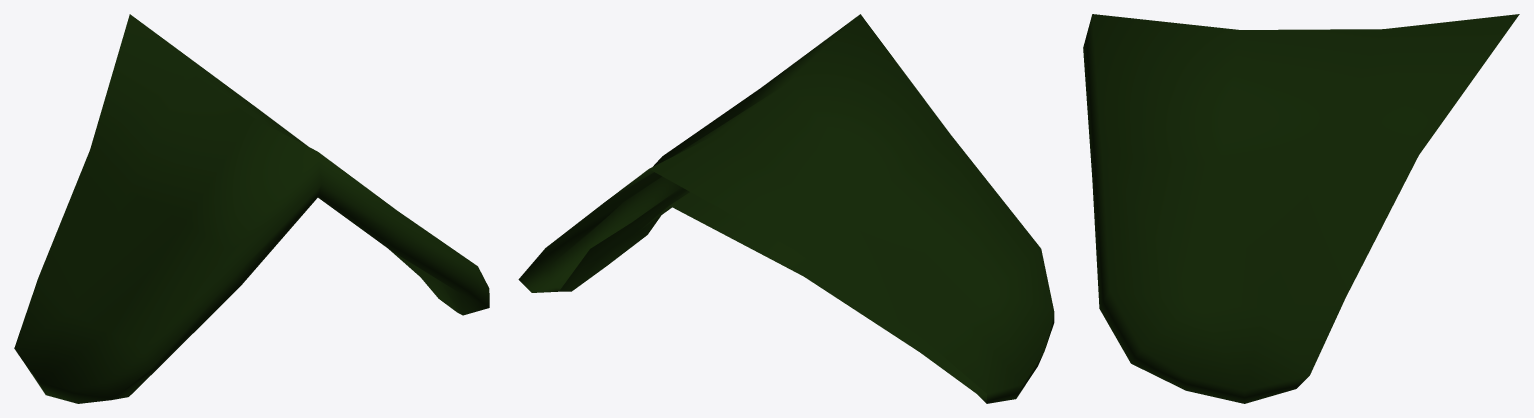
File: Entrance01.FBX
3 renders of one model, left to right at view 1: azimuth 30°, elevation 25°; view 2: azimuth 150°, elevation 25°; view 3: azimuth 270°, elevation 25°, orthographic. The views are drawn at different scales.
Parts seen in each view (by area): view 1: Roundhouse_Enterance; view 2: Roundhouse_Enterance; view 3: Roundhouse_Enterance.
Part boxes in pixels (<box>): Roundhouse_Enterance: <box>14,14,489,403</box>; Roundhouse_Enterance: <box>518,14,1054,403</box>; Roundhouse_Enterance: <box>1083,14,1519,403</box>.
Size of the model in its own units: 8.24 by 4.53 by 6.48.
